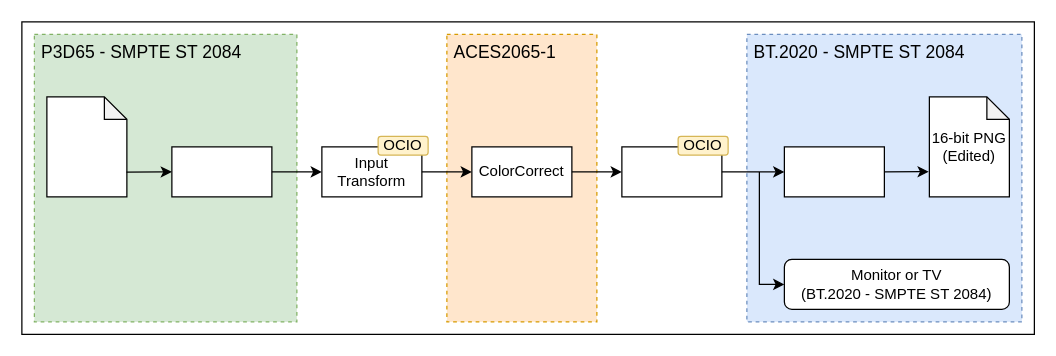
Some shapes in this 1056 by 356 pixel diagram are drawn without their labels. Each missing label, with the centre of its shape:
16-bit PNG (Source): pixel 86 146
Output Transform: pixel 671 171
Read: pixel 221 171
Write: pixel 833 171
